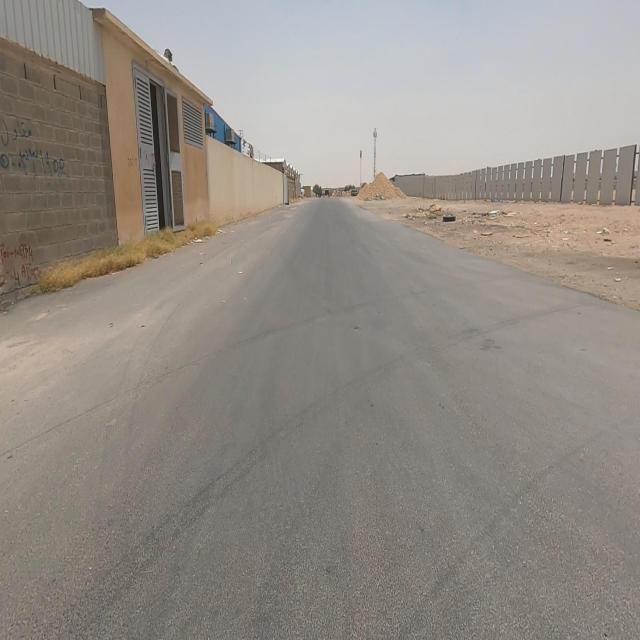Graffiti: (2, 119, 67, 183), (2, 243, 40, 283)
